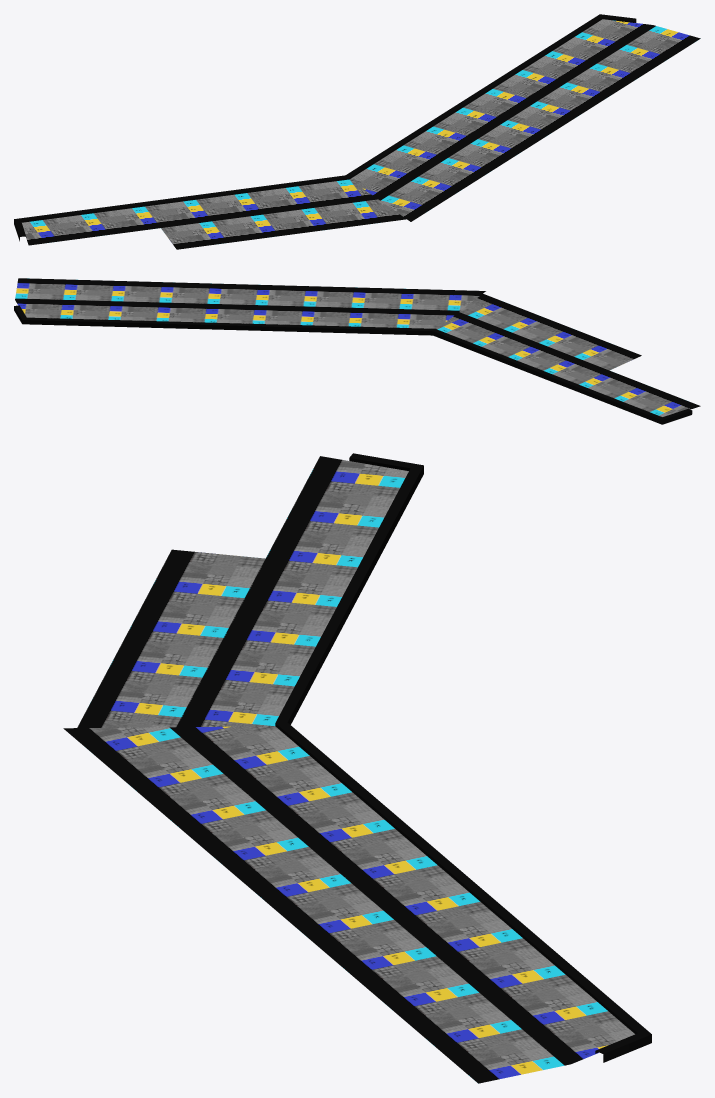
The model's file is chinatown_sidewalk_9.fbx.
3 views of the same model, one above another, from view 1: azimuth 30°, elevation 25°; view 2: azimuth 150°, elevation 25°; view 3: azimuth 270°, elevation 25° (orthographic). The views are drawn at different scales.
Visible parts, largest first — view 1: chinatown_curb_9, curb_tiles_1; view 2: chinatown_curb_9, curb_tiles_1; view 3: chinatown_curb_9, curb_tiles_1.
Boxes of the visible parts, <box> form: chinatown_curb_9: <box>14,14,700,241</box>; curb_tiles_1: <box>22,179,406,249</box>; chinatown_curb_9: <box>14,278,692,424</box>; curb_tiles_1: <box>437,294,700,416</box>; chinatown_curb_9: <box>63,453,651,1083</box>; curb_tiles_1: <box>77,456,408,728</box>.
Bounding box in the file's own units: 2310 × 15 × 916.
